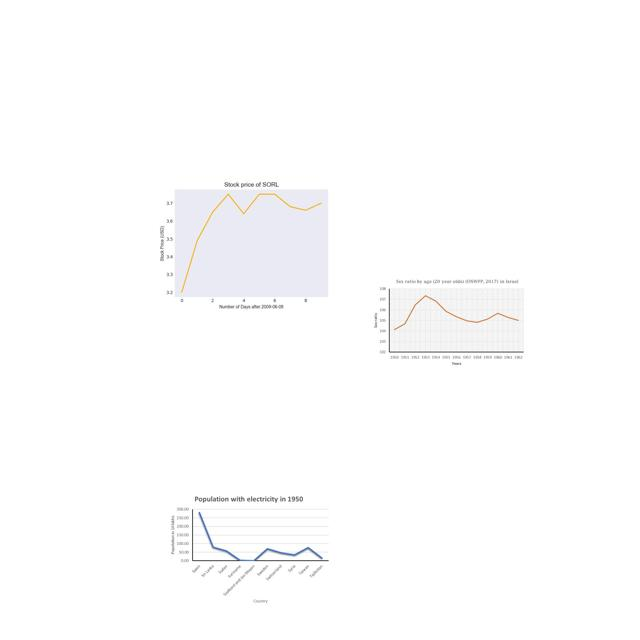Graph: (150, 168, 348, 317), (165, 491, 333, 609), (370, 276, 527, 368)
